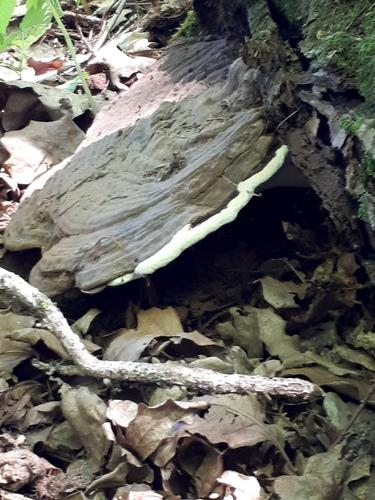Ganoderma - Fruit Body: (10, 42, 287, 296)
